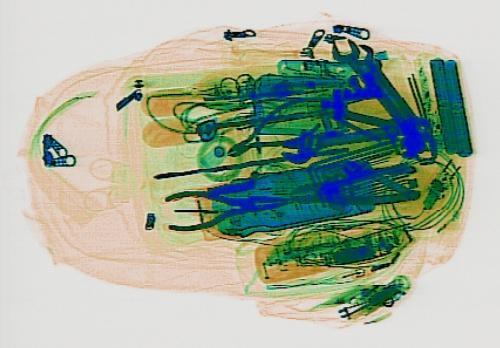Pliers: (207, 94, 334, 169), (282, 160, 425, 214), (158, 181, 289, 231)
Wrench: (320, 34, 428, 146), (337, 41, 424, 133), (273, 118, 411, 164)
